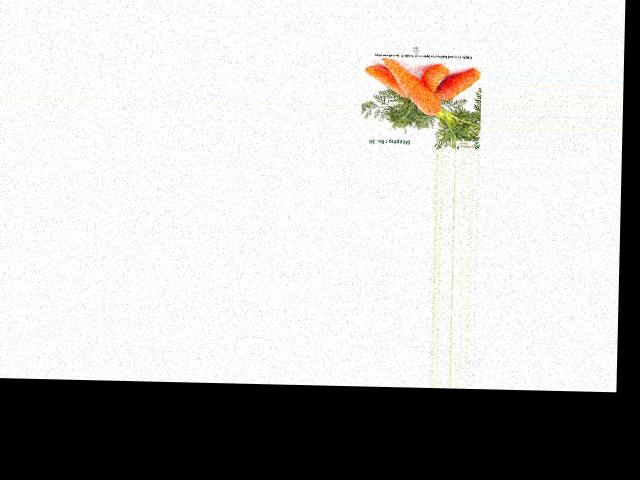carrot: (434, 67, 480, 105)
